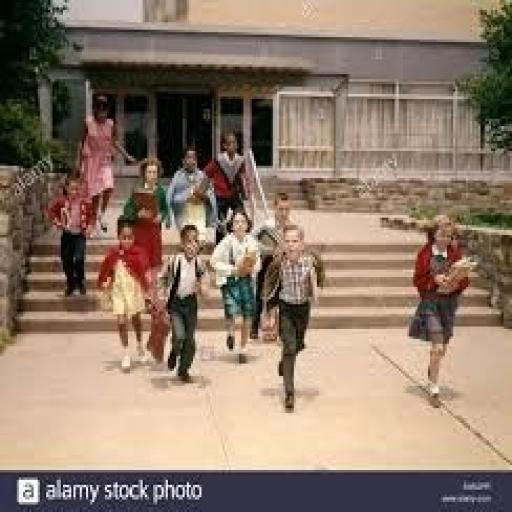running: (405, 210, 476, 411), (258, 220, 330, 416), (94, 213, 158, 376), (72, 89, 138, 237), (153, 222, 212, 386), (208, 205, 264, 366), (44, 170, 99, 302)
